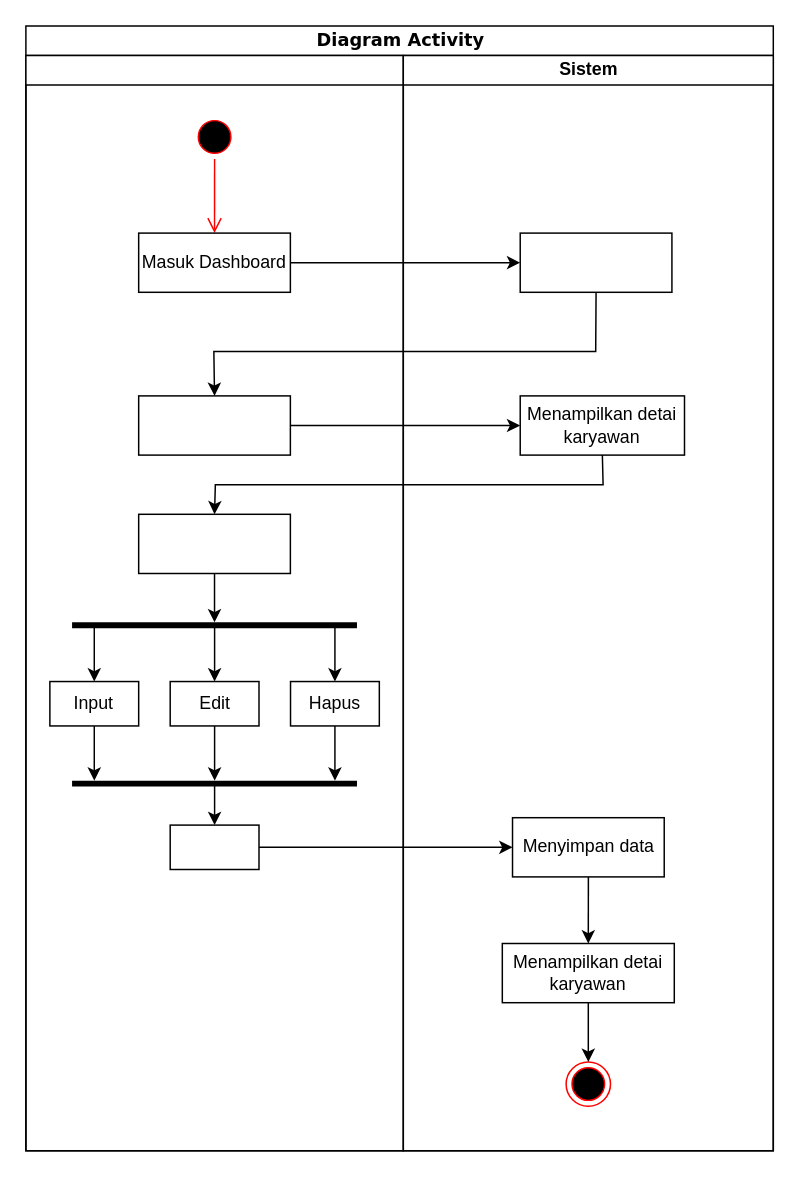
The diagram is 799 pixels wide and 1177 high, and some of its shapes have lost their labels. The box of each missing label's shape, as (x1, y1, x2, y2) in pixels:
Kelola data karyawan: (137, 513, 290, 574)
Memilih menu karyawan: (137, 394, 290, 455)
Simpan: (169, 824, 259, 870)
Tampilan Dashboard: (519, 232, 672, 292)
User: (24, 54, 403, 1151)
